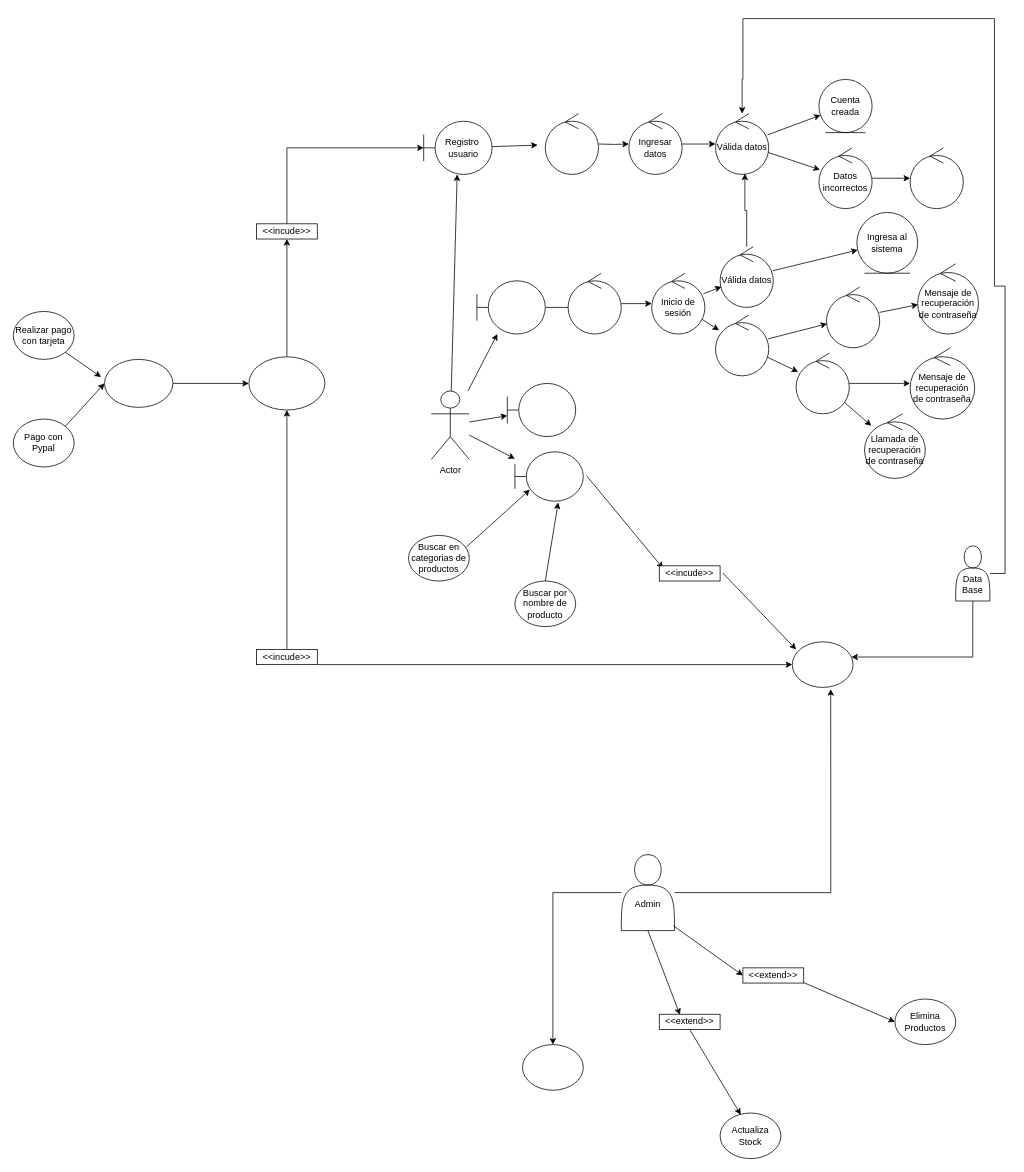
The diagram is 1024 pixels wide and 1172 high, and some of its shapes have lost their labels. The shapes that lost their labels are listed below. From the top down, each one's centre as x and y in pixels, then its label:
(x=571, y=143): Página inicio
(x=936, y=178): Clic en volver a registrarse
(x=510, y=307): Inicio sesión
(x=594, y=303): Página principal
(x=853, y=317): Ingresar correo electrónico
(x=742, y=345): Clic en olvidé mi contraseña
(x=138, y=383): Realizar pago
(x=286, y=383): Comprar productos
(x=822, y=383): Ingresar número de teléfono
(x=541, y=410): Proceso ventas
(x=548, y=476): Carrito de Compras
(x=822, y=664): Comprobar Stock
(x=552, y=1067): Ingresar producto
